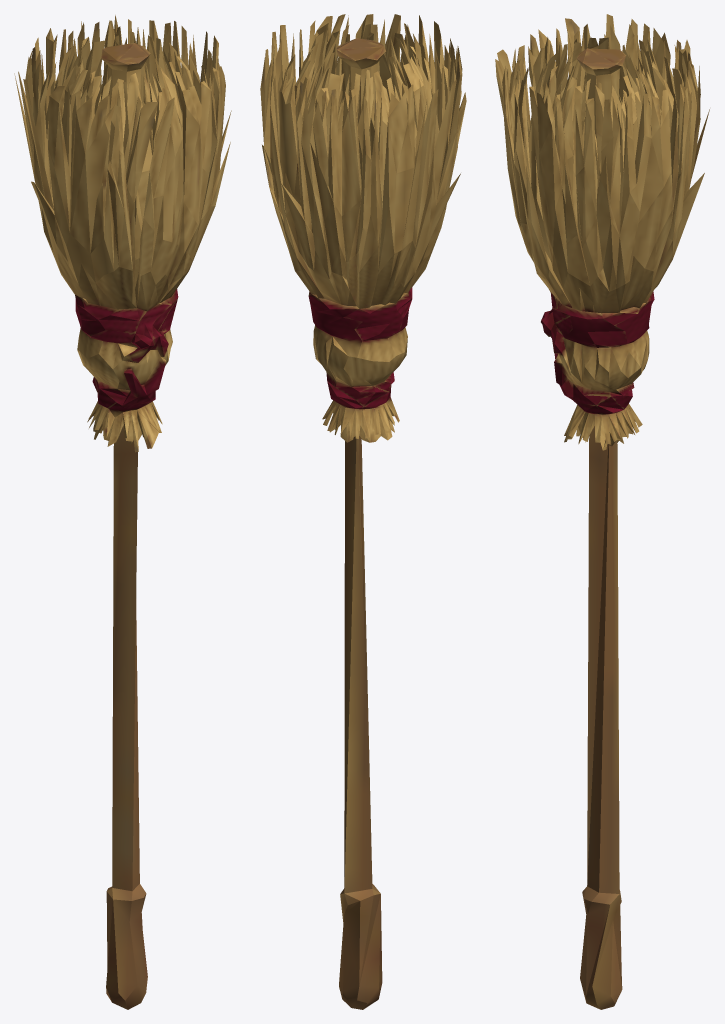
File: broom.glb
The picture shows the model from 3 angles, left to right: view 1: azimuth 30°, elevation 25°; view 2: azimuth 150°, elevation 25°; view 3: azimuth 270°, elevation 25°; orthographic projection.
Bounding box in the file's own units: 0.4047 × 1.9 × 0.3898.
Materials: 1 (1 with a texture image).
